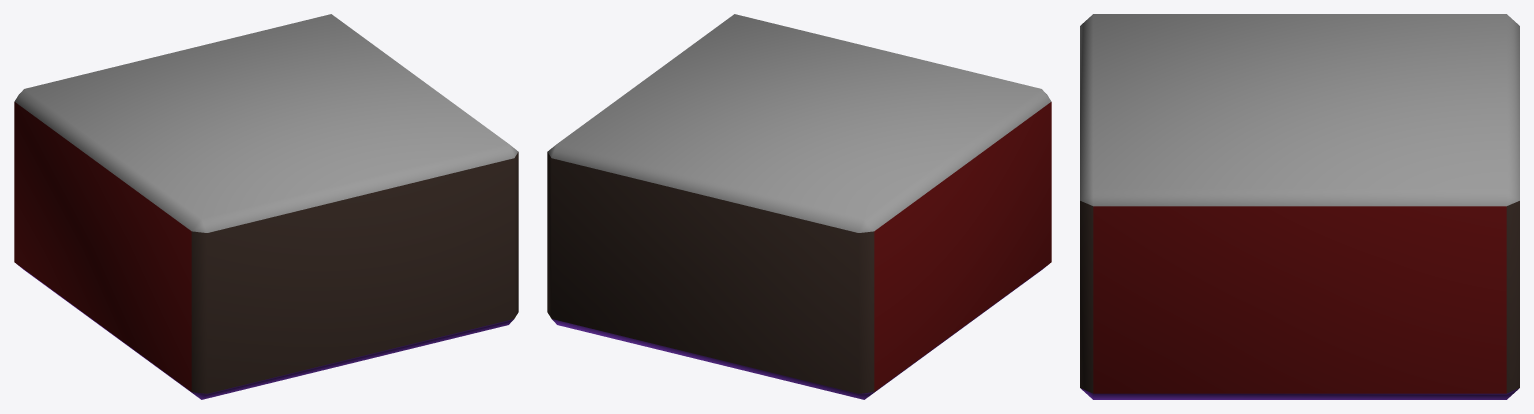
File: HalfCube.fbx
The picture shows the model from 3 angles, left to right: view 1: azimuth 30°, elevation 25°; view 2: azimuth 150°, elevation 25°; view 3: azimuth 270°, elevation 25°; orthographic projection. The views are drawn at different scales.
Parts seen in each view (by area): view 1: Cube; view 2: Cube; view 3: Cube.
Part boxes in pixels (bbox=[...]): Cube: bbox=[14, 14, 518, 399]; Cube: bbox=[547, 14, 1051, 399]; Cube: bbox=[1080, 14, 1519, 399].
Bounding box in the file's own units: 39.37 × 20.87 × 39.37.
